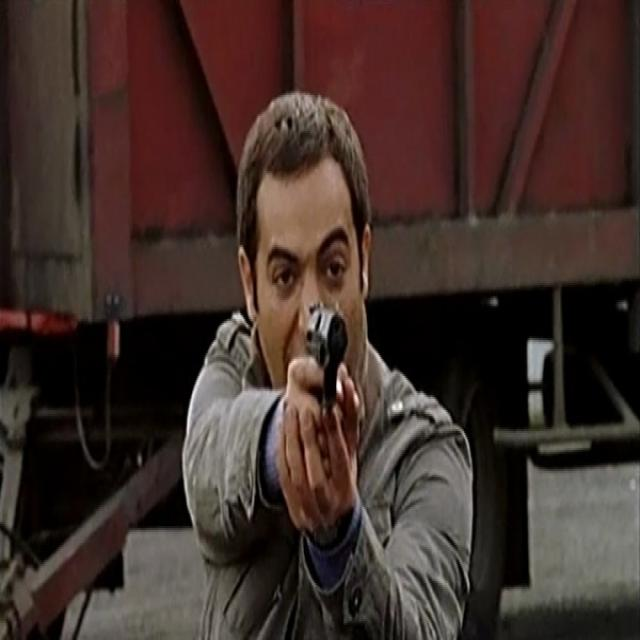weapons: (289, 285, 362, 498)
